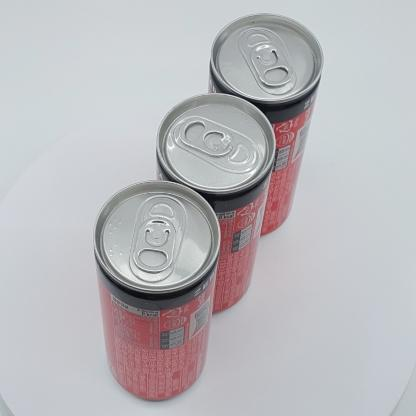------250ML: (93, 180, 221, 400), (156, 93, 276, 314), (208, 13, 323, 237)
